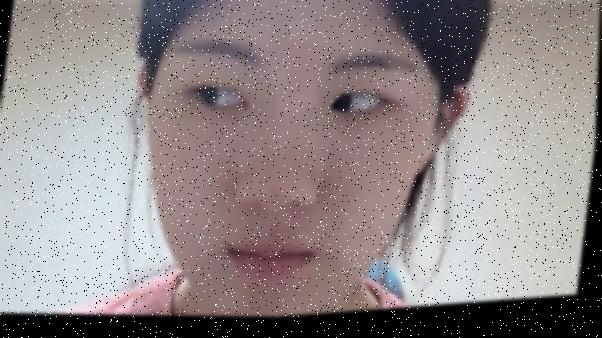eye: (191, 82, 221, 113), (326, 94, 354, 121)
iris: (192, 85, 251, 116), (330, 93, 387, 125)
